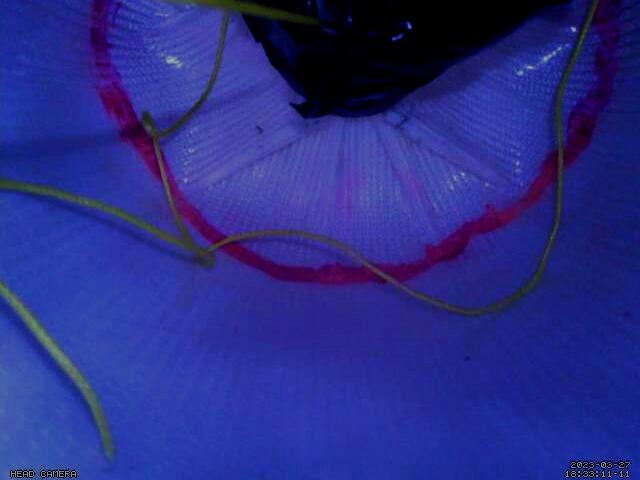head: (89, 1, 623, 288)
